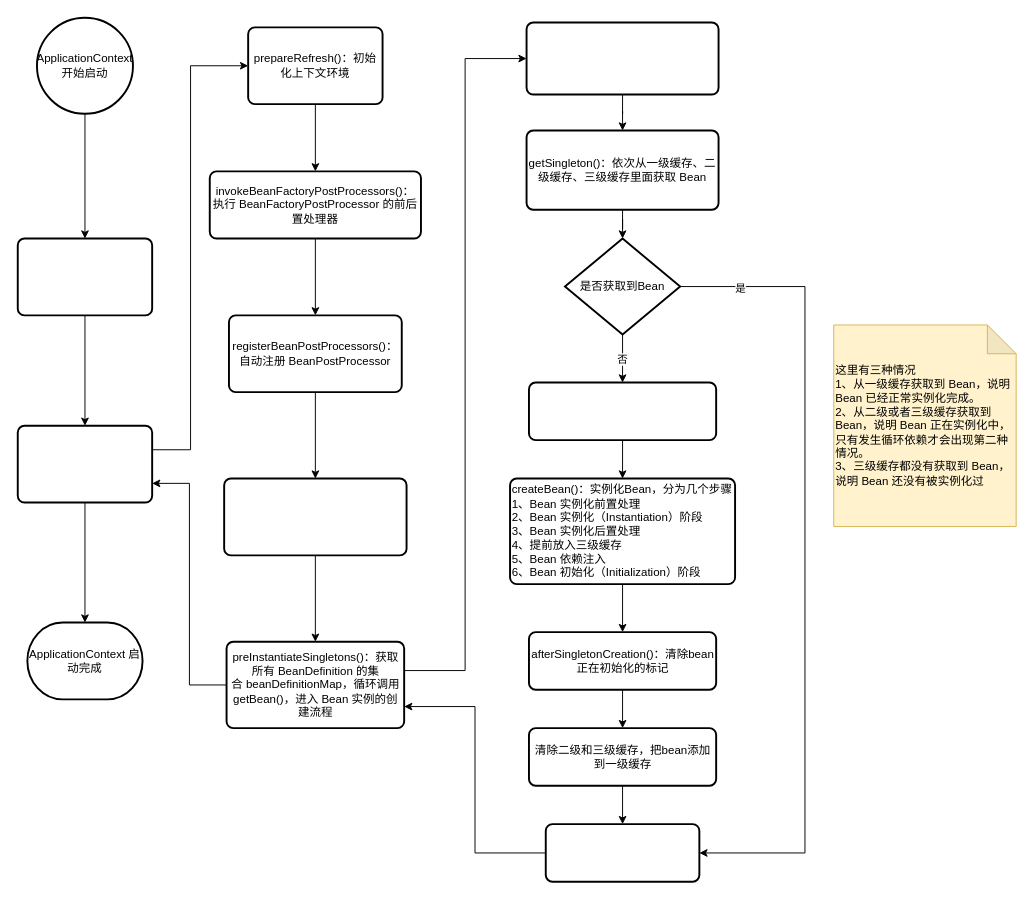
The diagram is 1033 pixels wide and 899 high, and some of its shapes have lost their labels. Here are the shapes that lost their labels. From the top down, the centre of each, then its label:
At pixel 622 58: "doGetBean()：调用 getSingleton() 获取 Bean".
At pixel 84 276: "scan()：扫描指定路径下的类文件并加载为 BeanDefinition".
At pixel 622 411: "beforeSingletonCreation()：设置Bean正在初始化的标记".
At pixel 84 463: "refresh()：容器刷新，核心方法".
At pixel 315 516: "finishBeanFactoryInitialization()：提前实例化所有 Bean".
At pixel 622 852: "获取到 Bean 返回".
